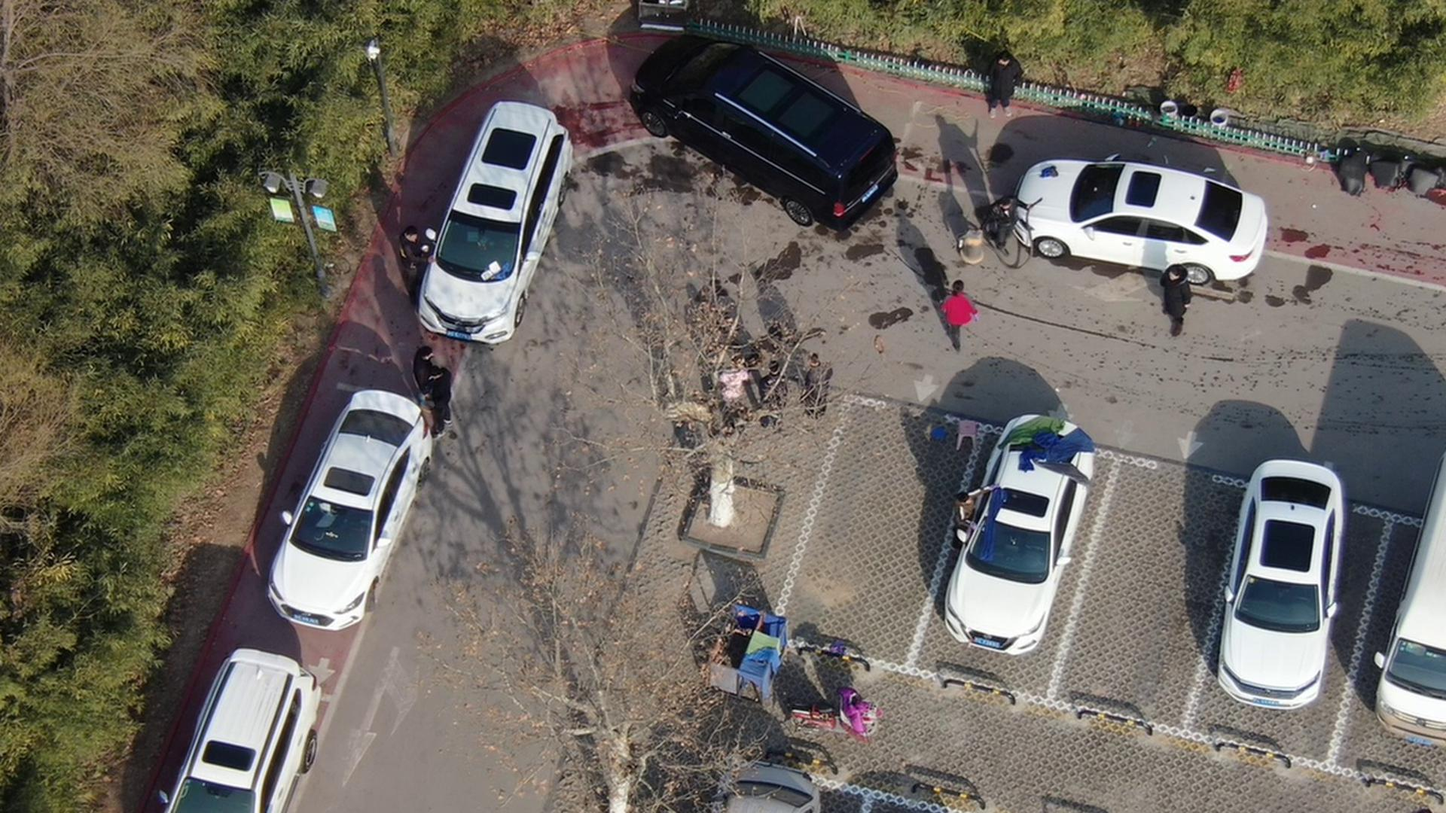human: (943, 278, 987, 362), (1158, 262, 1201, 342), (993, 44, 1034, 120), (992, 186, 1030, 257), (805, 350, 837, 431), (404, 218, 432, 308), (767, 357, 792, 438), (433, 366, 459, 440), (416, 343, 441, 410)
